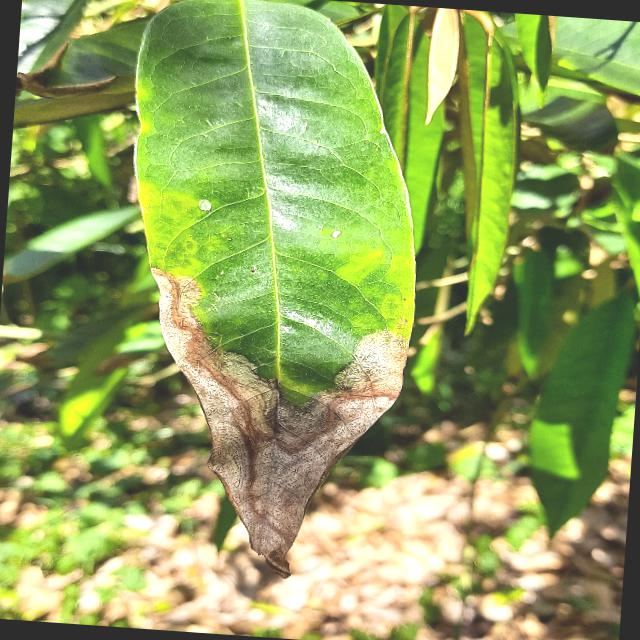Leaf Blight: (95, 0, 441, 591)
